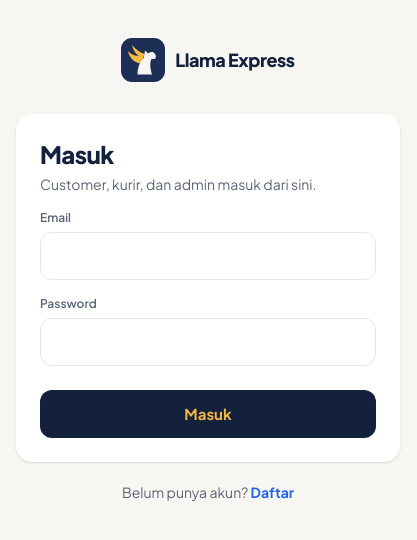
Test: LoginPage › validasi di browser: field kosong → pesan error, backend tidak dipanggil
The image size is (417, 540).
Click the button "Masuk".
click(208, 414)  # box [40, 390, 376, 438]
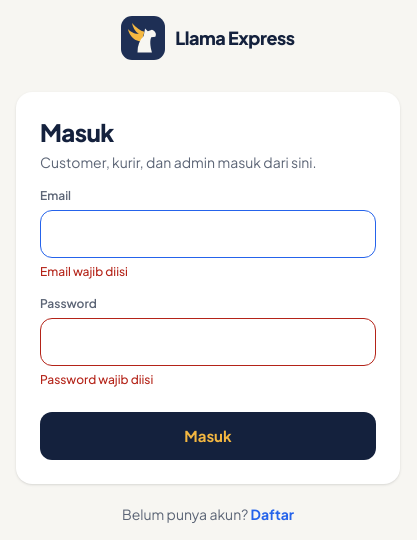
Result: the text "Email wajib diisi" is shown at [40, 264, 128, 279]
Result: the text "Password wajib diisi" is shown at [40, 372, 153, 387]
